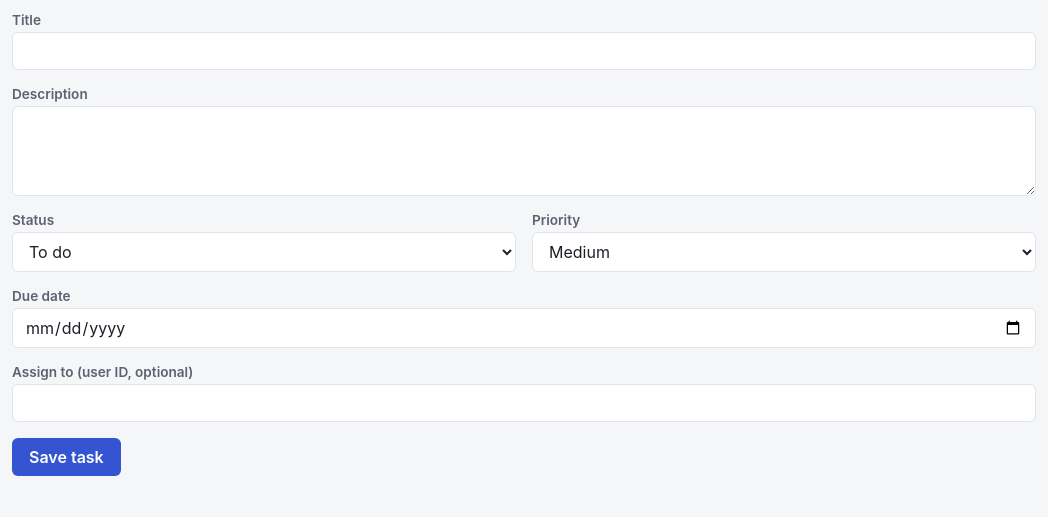
TaskForm › shows a validation error for a blank title and does not submit
Click the button "Save task".
click(66, 457)  # box [12,438,121,476]
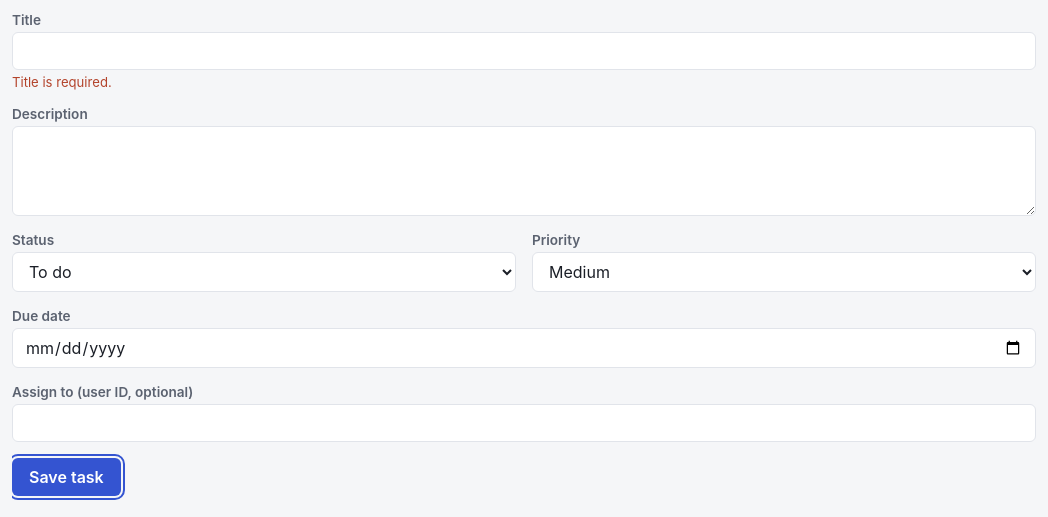
Expected: the text "Title is required." is shown, [12,74,112,90]
